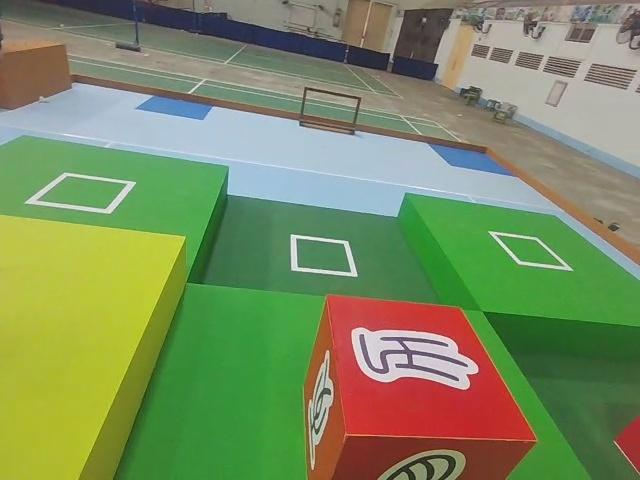R2 Fake: (306, 293, 539, 480)
